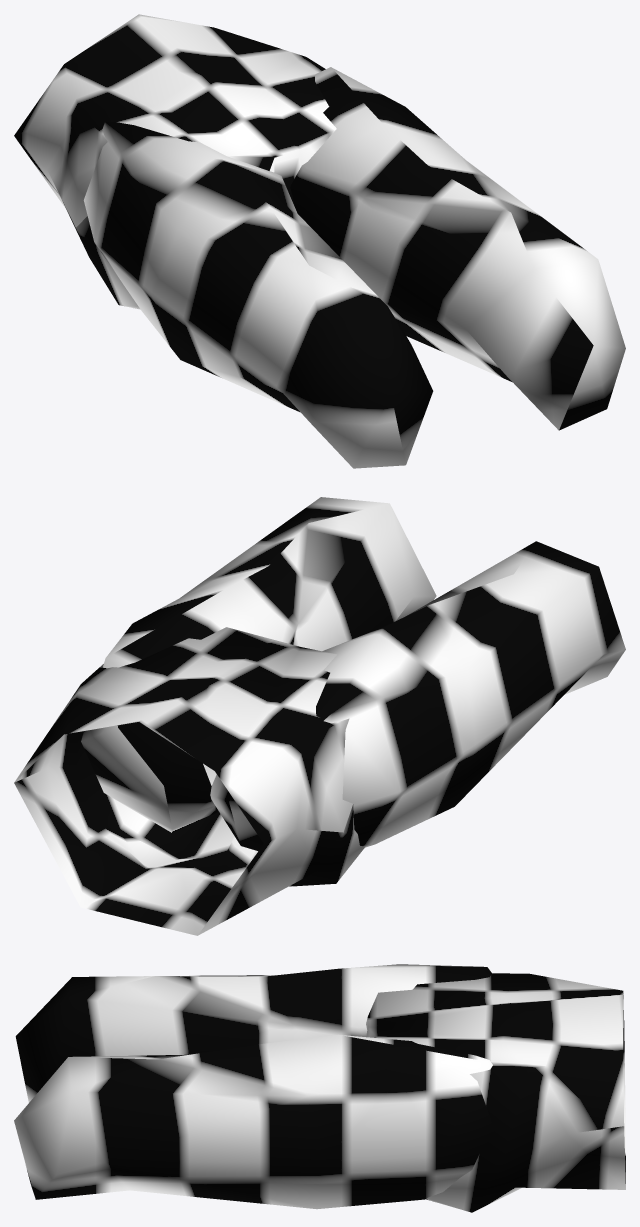
File: initarpt5.dae
The picture shows the model from 3 angles, top to bottom: view 1: azimuth 30°, elevation 25°; view 2: azimuth 150°, elevation 25°; view 3: azimuth 270°, elevation 25°; orthographic projection. The views are drawn at different scales.
Parts seen in each view (by area): view 1: armor; view 2: armor; view 3: armor.
Boxes of the visible parts, x1,y1,x2,y2 form: armor: [14, 14, 625, 468]; armor: [14, 497, 625, 935]; armor: [14, 964, 625, 1212].
Size of the model in its own units: 0.9503 by 1.8 by 0.6141.
1 material, 1 textured.
